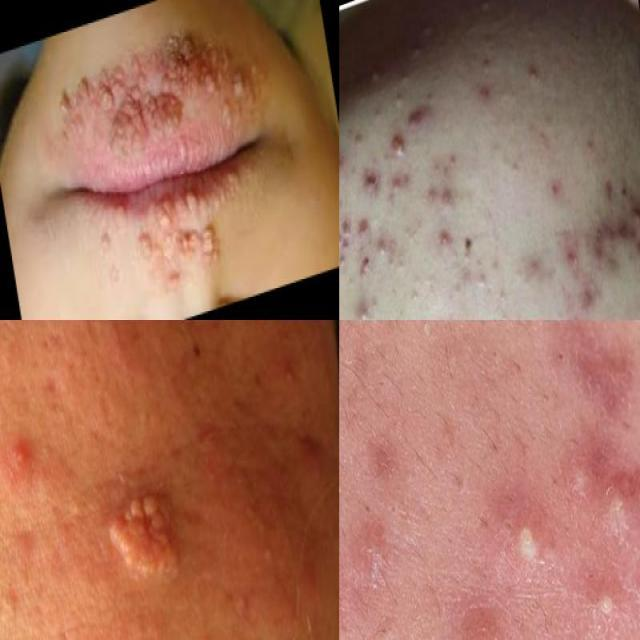Pimples: (100, 472, 192, 607), (601, 446, 640, 546), (585, 547, 623, 636), (587, 204, 640, 258), (504, 495, 538, 569), (2, 422, 34, 477), (399, 98, 434, 143), (560, 237, 590, 284), (432, 176, 468, 212), (358, 160, 384, 206), (573, 279, 601, 320), (430, 222, 460, 258), (386, 127, 412, 164), (470, 78, 496, 114), (0, 569, 18, 619), (346, 292, 376, 320), (344, 125, 368, 157), (386, 172, 409, 204), (355, 202, 370, 241), (339, 143, 347, 180)
